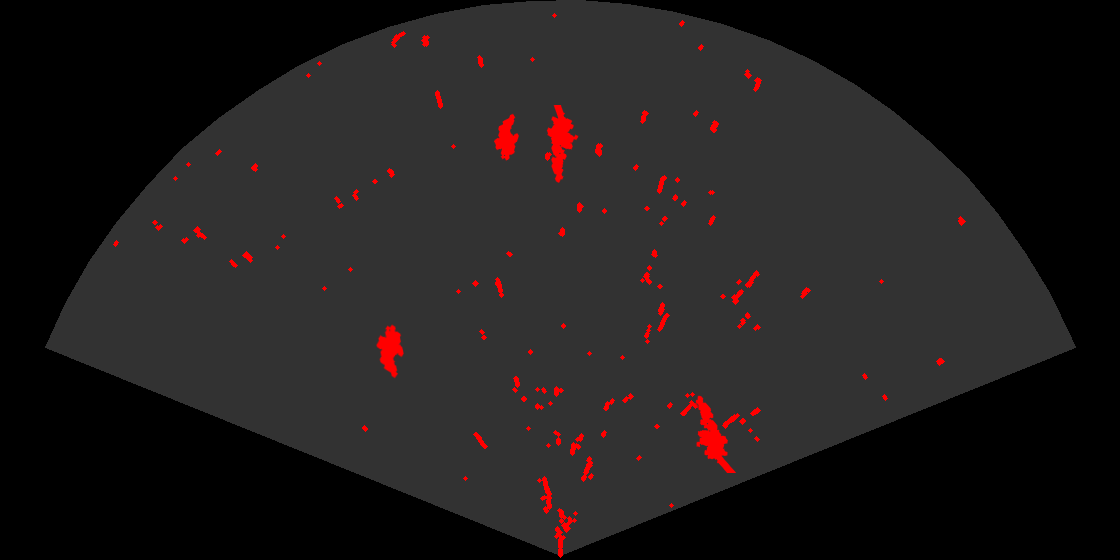AUV: (375, 323, 405, 380), (492, 112, 521, 162)
frogman: (694, 394, 738, 473), (545, 105, 580, 185)
